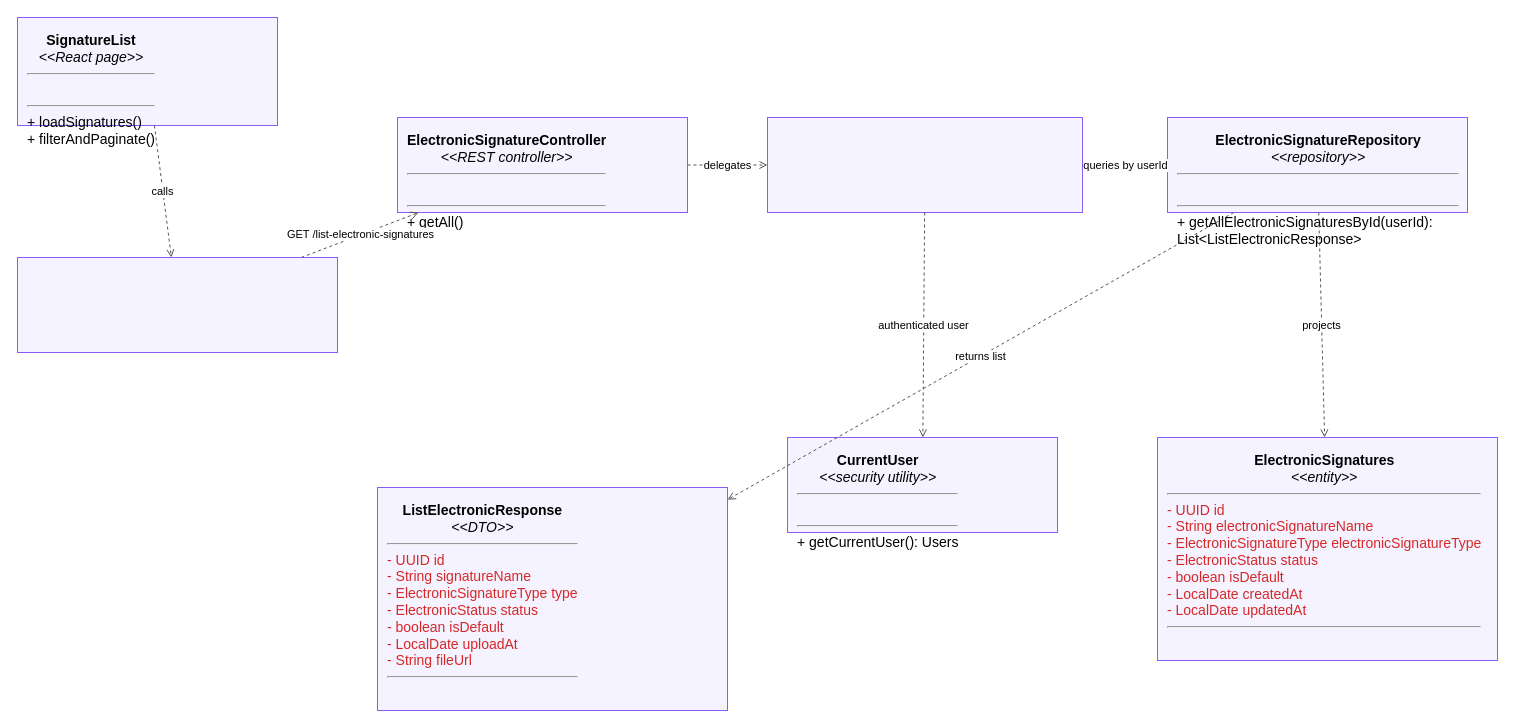
This 1515x728 diagram has some shape labels left out. Each missing label, with the centre of its shape:
electronicSignatureService <<frontend service>> + getAllElectronicSignature(): the point at 177,304
ElectronicSignatureServiceImpl <<service>> + getAllElectronicSignatures(): the point at 924,164
